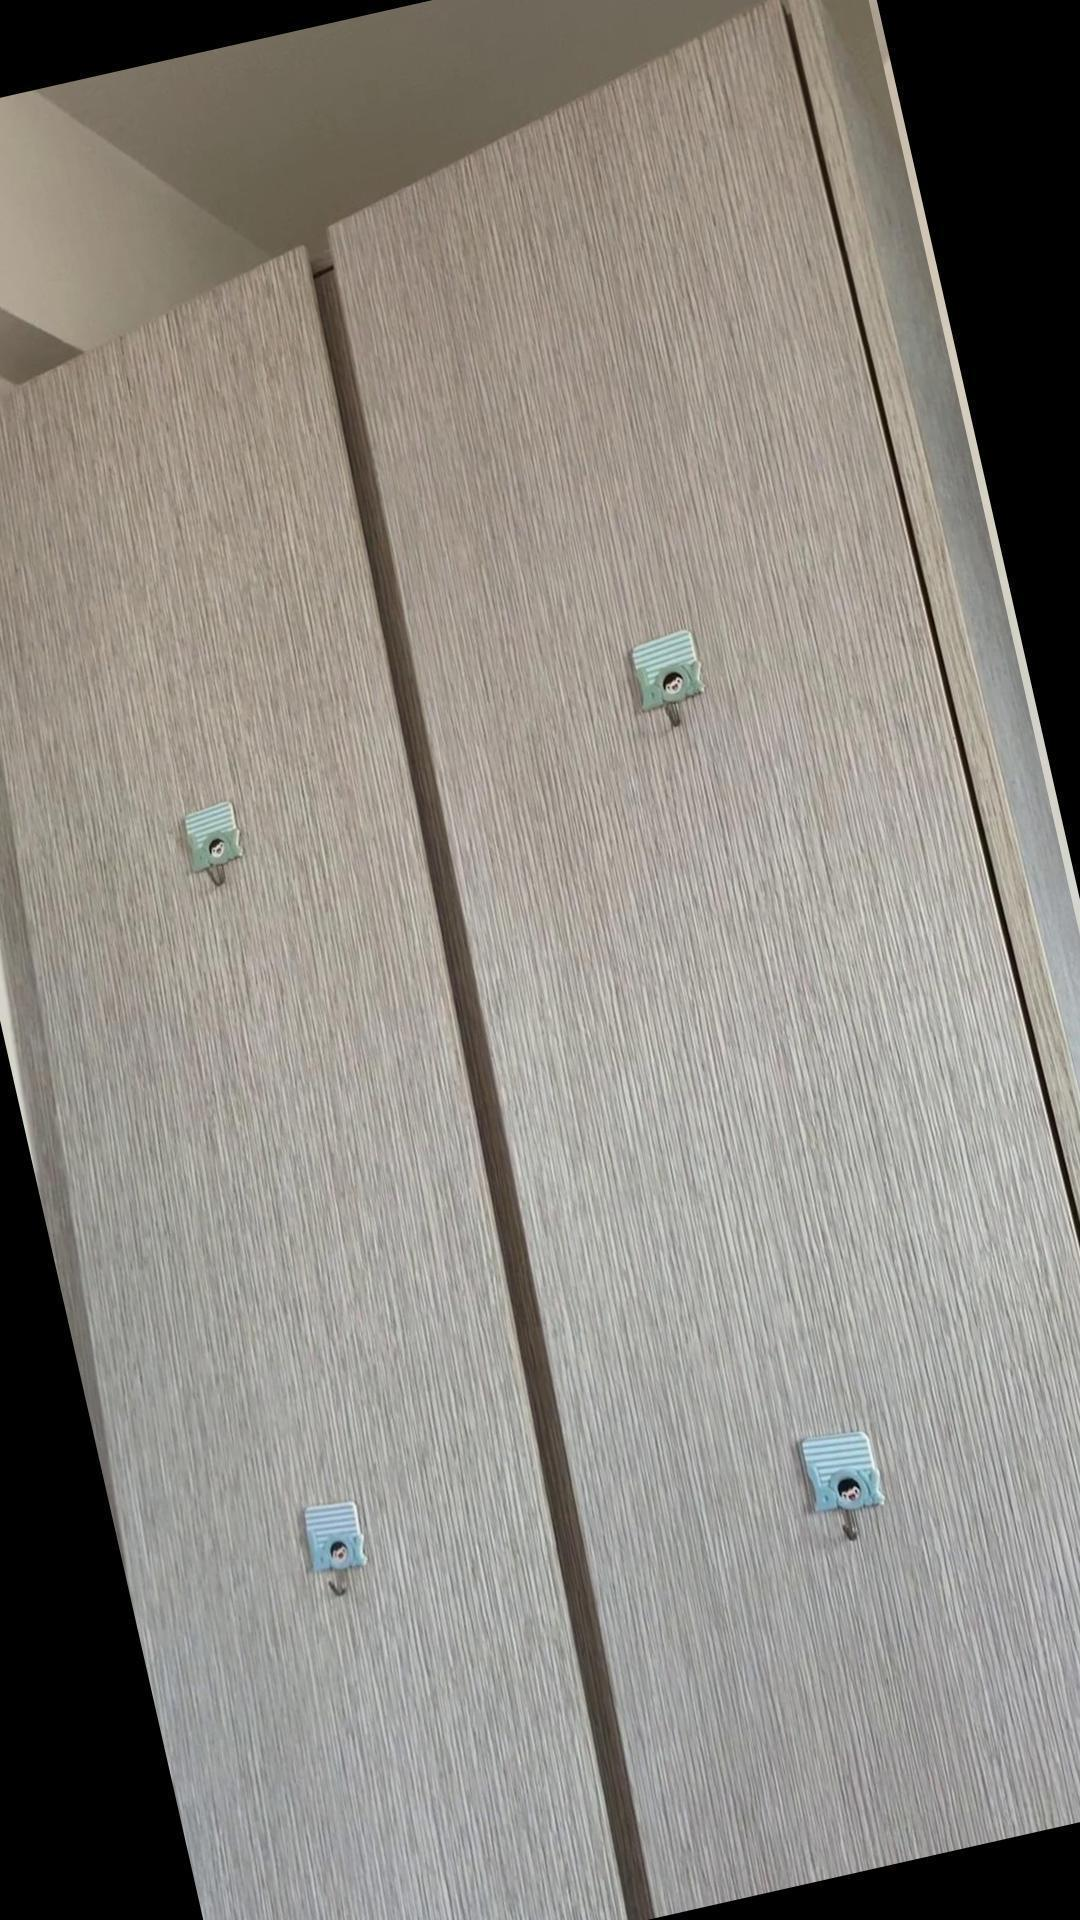Armario: (0, 7, 1080, 1920)
